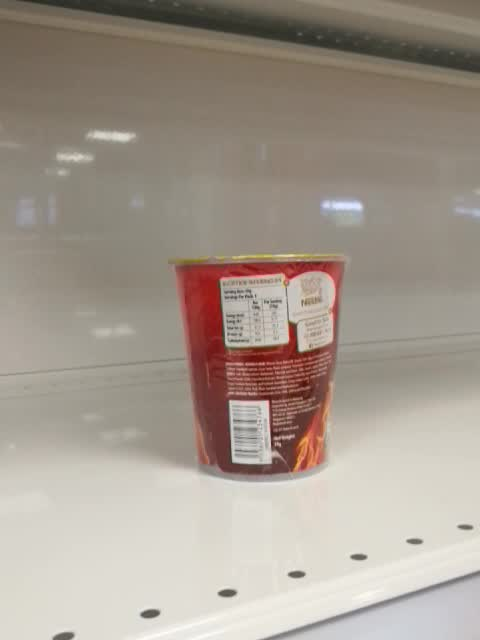maggi: (168, 252, 350, 483)
